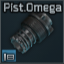SilencerCo Omega 45k piston mount adapter: (0, 0, 64, 64)
